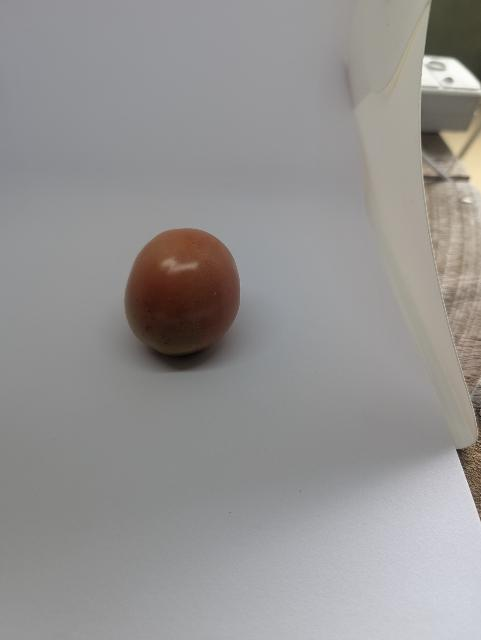red: (119, 224, 253, 369)
